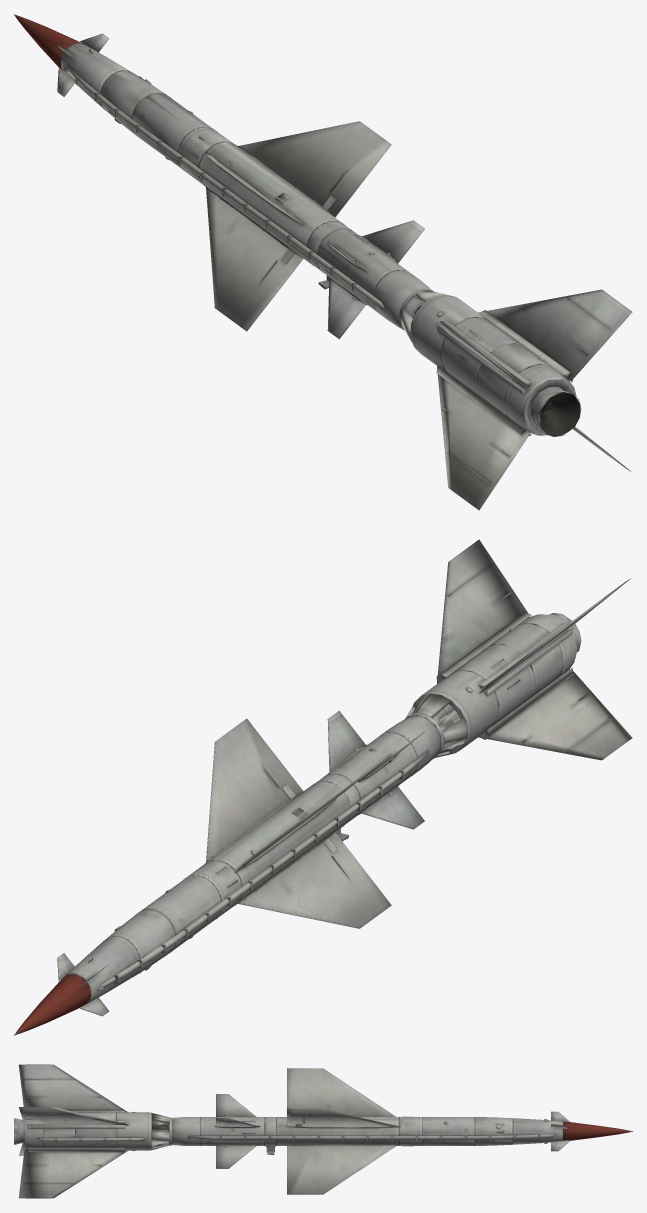
File: msl_s75_lo.glb
3 renders of one model, top to bottom at view 1: azimuth 30°, elevation 25°; view 2: azimuth 150°, elevation 25°; view 3: azimuth 270°, elevation 25°, orthographic. The views are drawn at different scales.
Parts seen in each view (by area): view 1: missile|M7_paint, booster|M7_paint; view 2: missile|M7_paint, booster|M7_paint; view 3: missile|M7_paint, booster|M7_paint.
Boxes of the visible parts, x1,y1,x2,y2 form: missile|M7_paint: (14, 14, 432, 339); booster|M7_paint: (399, 289, 632, 510); missile|M7_paint: (14, 710, 441, 1035); booster|M7_paint: (404, 539, 632, 760); missile|M7_paint: (168, 1068, 632, 1194); booster|M7_paint: (14, 1064, 172, 1198).
Bounding box in the file's own units: 1.73 × 1.73 × 10.61.
2 materials, 2 textured.
